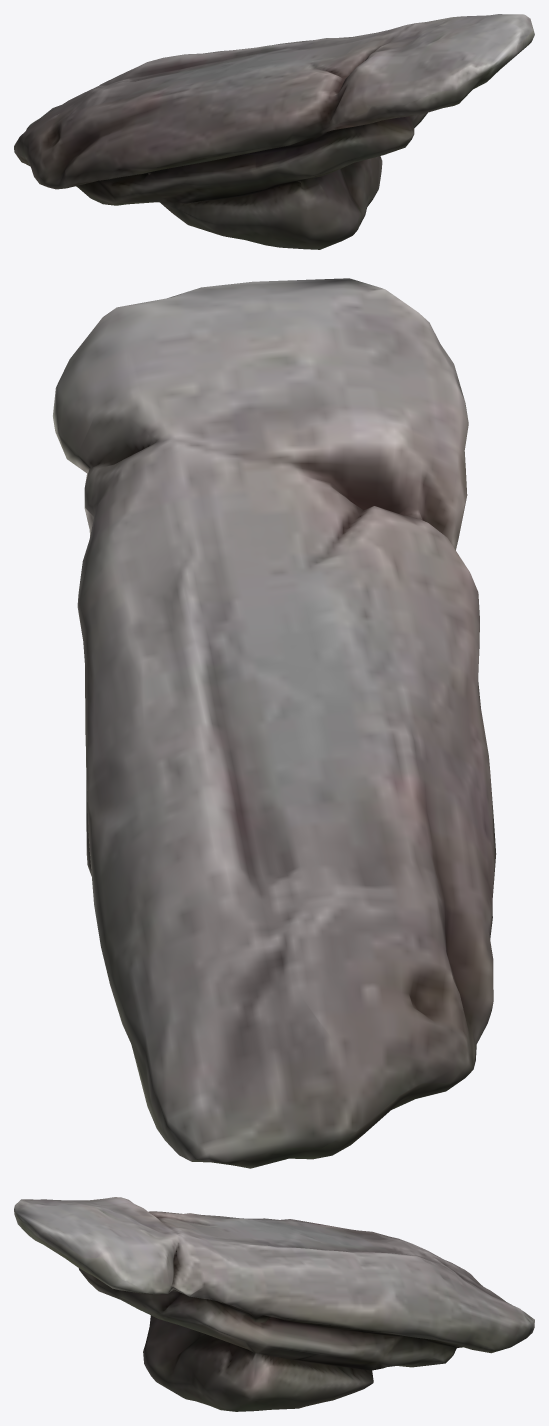
File: stylized-rock-09.glb
3 renders of one model, top to bottom at view 1: azimuth 30°, elevation 25°; view 2: azimuth 150°, elevation 25°; view 3: azimuth 270°, elevation 25°, orthographic. The views are drawn at different scales.
Visible parts, largest first — view 1: Big_5; view 2: Big_5; view 3: Big_5.
Part boxes in pixels (x1,y1,x2,y2): Big_5: (14, 14, 534, 249); Big_5: (53, 278, 496, 1168); Big_5: (14, 1197, 534, 1411).
Size of the model in its own units: 7.24 by 4.6 by 9.62.
1 material, 1 textured.
